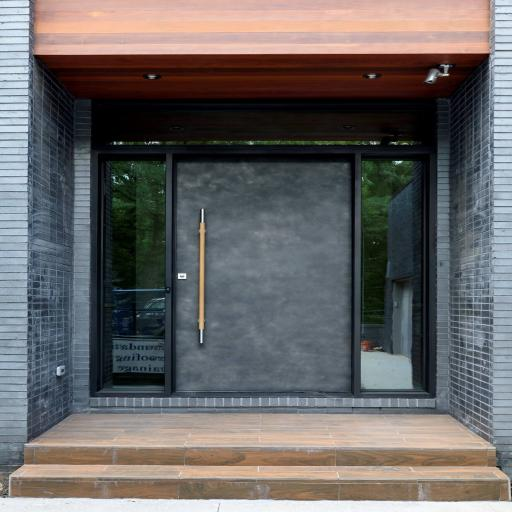Door: (173, 156, 352, 392)
Stairs: (8, 412, 511, 500)
